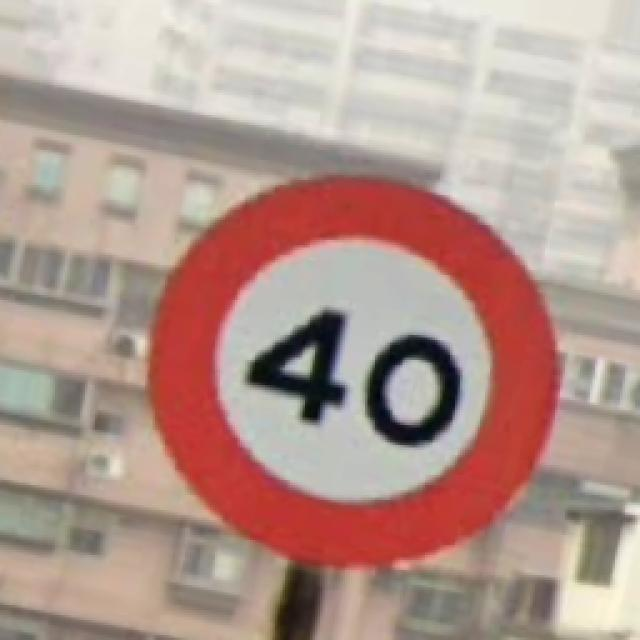Speed Limit -40-: (150, 178, 555, 562)
